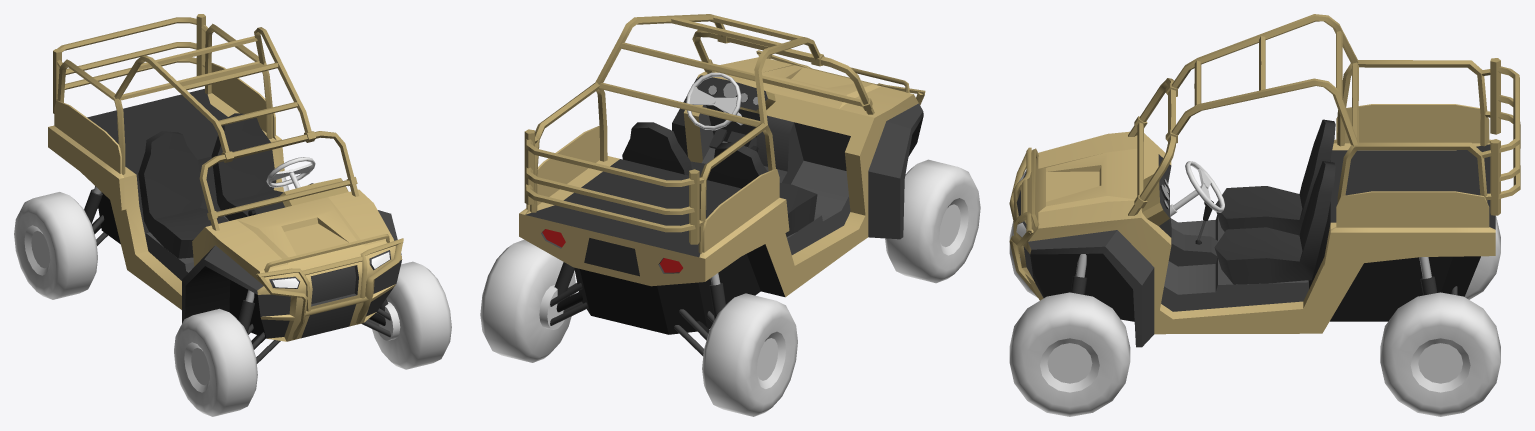
Rendered from Car5.fbx.
3 views of the same model, side by side, from view 1: azimuth 30°, elevation 25°; view 2: azimuth 150°, elevation 25°; view 3: azimuth 270°, elevation 25° (orthographic). The views are drawn at different scales.
Parts seen in each view (by area): view 1: CarBody, BR, FR, FL, rudder; view 2: CarBody, BR, FR, BL, rudder; view 3: CarBody, FL, BL, rudder, BR.
Boxes of the visible parts, bbox=[...] form: CarBody: bbox=[48, 14, 403, 363]; BR: bbox=[14, 192, 97, 299]; FR: bbox=[174, 308, 257, 416]; FL: bbox=[372, 261, 451, 369]; rudder: bbox=[266, 157, 315, 188]; CarBody: bbox=[519, 14, 925, 356]; BR: bbox=[702, 293, 797, 416]; FR: bbox=[885, 159, 980, 283]; BL: bbox=[480, 239, 575, 362]; rudder: bbox=[686, 72, 743, 130]; CarBody: bbox=[1009, 14, 1520, 347]; FL: bbox=[1009, 292, 1130, 416]; BL: bbox=[1380, 292, 1500, 416]; rudder: bbox=[1170, 161, 1224, 216]; BR: bbox=[1464, 216, 1500, 299].
Size of the model in its own units: 265 by 287 by 433.
